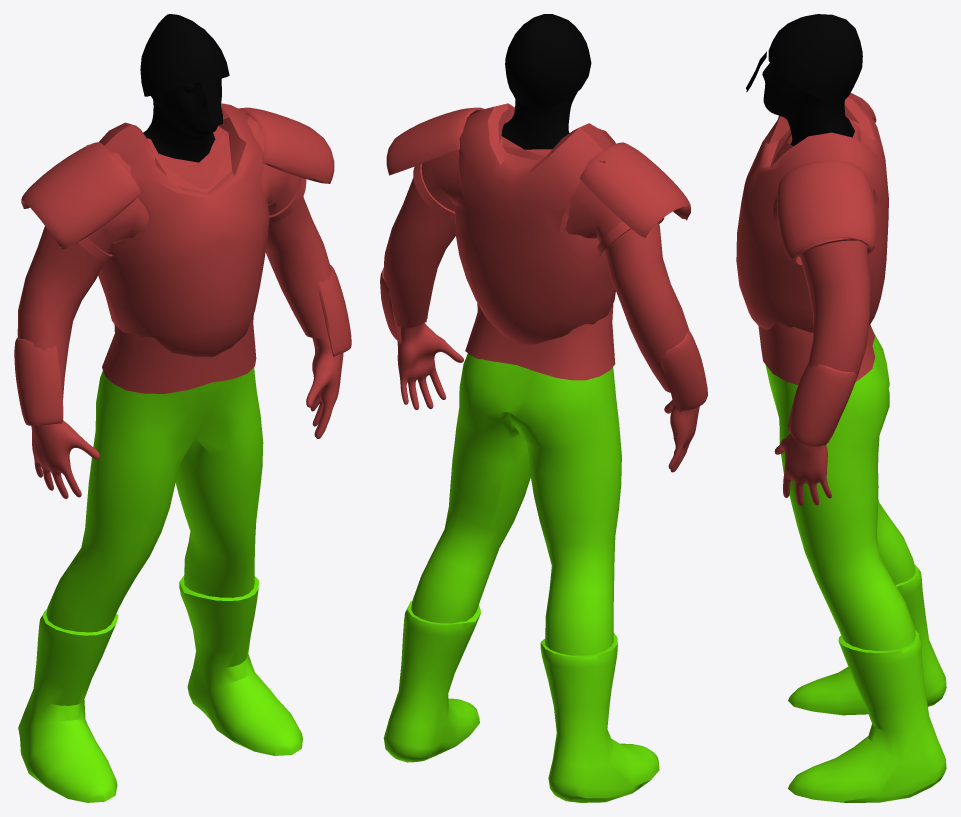
File: garde.fbx
The picture shows the model from 3 angles, left to right: view 1: azimuth 30°, elevation 25°; view 2: azimuth 150°, elevation 25°; view 3: azimuth 270°, elevation 25°; orthographic projection. The views are drawn at different scales.
Visible parts, largest first — view 1: polySurface15, polySurface4, polySurface12; view 2: polySurface15, polySurface4, polySurface12; view 3: polySurface15, polySurface4, polySurface12.
Boxes of the visible parts, x1,y1,x2,y2 form: polySurface15: (14, 103, 351, 498); polySurface4: (18, 367, 302, 802); polySurface12: (140, 14, 229, 162); polySurface15: (380, 103, 707, 472); polySurface4: (383, 353, 659, 802); polySurface12: (501, 14, 591, 149); polySurface15: (736, 93, 888, 505); polySurface4: (765, 333, 946, 802); polySurface12: (746, 14, 862, 145).
Size of the model in its own units: 7.66 by 16.93 by 4.39.
